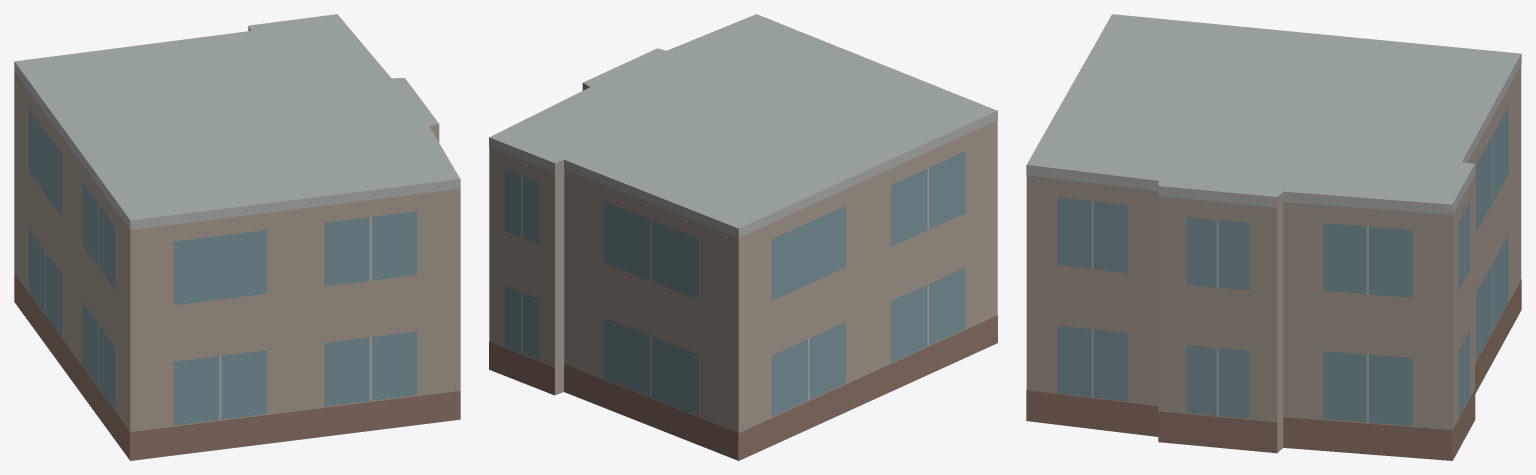
The model's file is survey-upis-32596097.glb.
3 views of the same model, side by side, from view 1: azimuth 30°, elevation 25°; view 2: azimuth 150°, elevation 25°; view 3: azimuth 270°, elevation 25° (orthographic). The views are drawn at different scales.
Visible parts, largest first — view 1: survey-upis-32596097.tmp; view 2: survey-upis-32596097.tmp; view 3: survey-upis-32596097.tmp.
Boxes of the visible parts, x1,y1,x2,y2 form: survey-upis-32596097.tmp: (14, 14, 460, 460); survey-upis-32596097.tmp: (489, 14, 997, 460); survey-upis-32596097.tmp: (1026, 14, 1521, 460).
Bounding box in the file's own units: 9.75 × 6.1 × 10.69.
